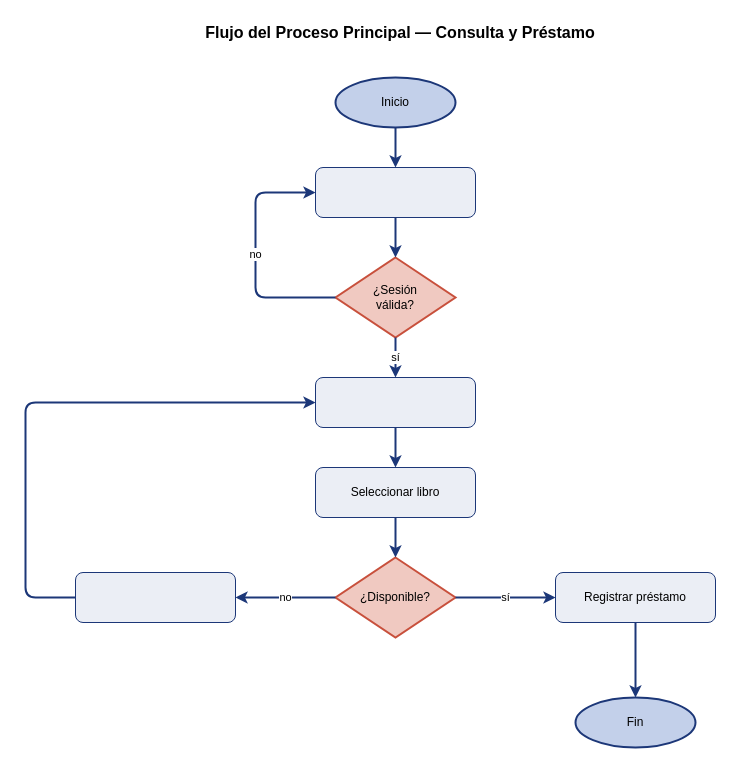
Image size: 733x765. Some labels were removed from this diagram. The shapes that lost their labels are listed below. From the top down, each one's centre as x and y in pixels, then its label:
point (395, 192): Iniciar sesión
point (395, 402): Consultar catálogo
point (155, 597): Mostrar mensaje
